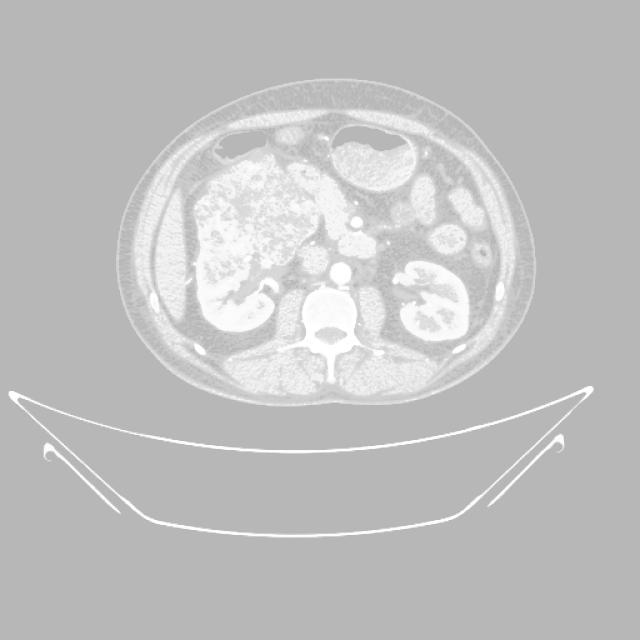TUMOR: (161, 177, 349, 314)
